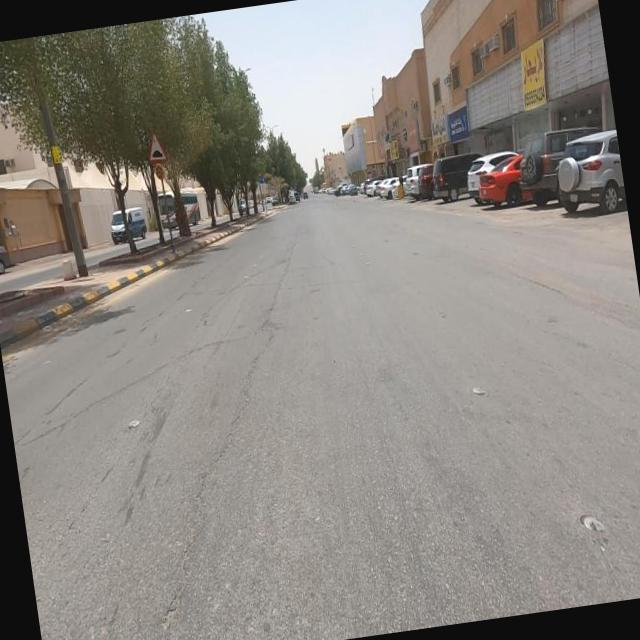debris: (422, 43, 574, 168), (496, 0, 617, 151)
